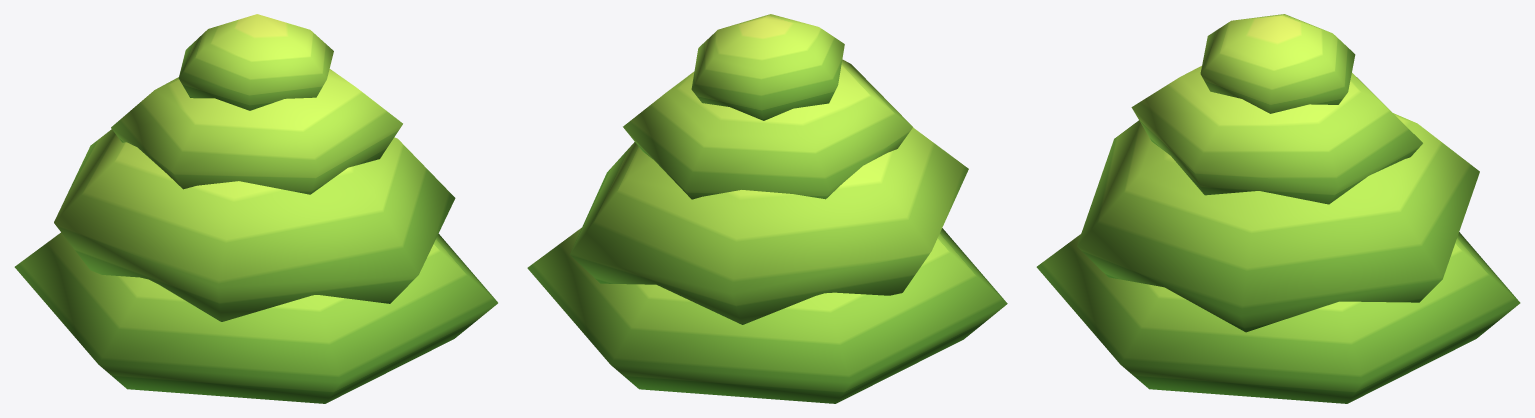
Rendered from plant_008.fbx.
The picture shows the model from 3 angles, left to right: view 1: azimuth 30°, elevation 25°; view 2: azimuth 150°, elevation 25°; view 3: azimuth 270°, elevation 25°; orthographic projection.
Visible parts, largest first — view 1: plant.008; view 2: plant.008; view 3: plant.008.
Part boxes in pixels (x1=…): plant.008: x1=14, y1=14, x2=497, y2=403; plant.008: x1=527, y1=14, x2=1007, y2=403; plant.008: x1=1036, y1=14, x2=1520, y2=403.
Size of the model in its own units: 23.45 by 17.28 by 24.57.
